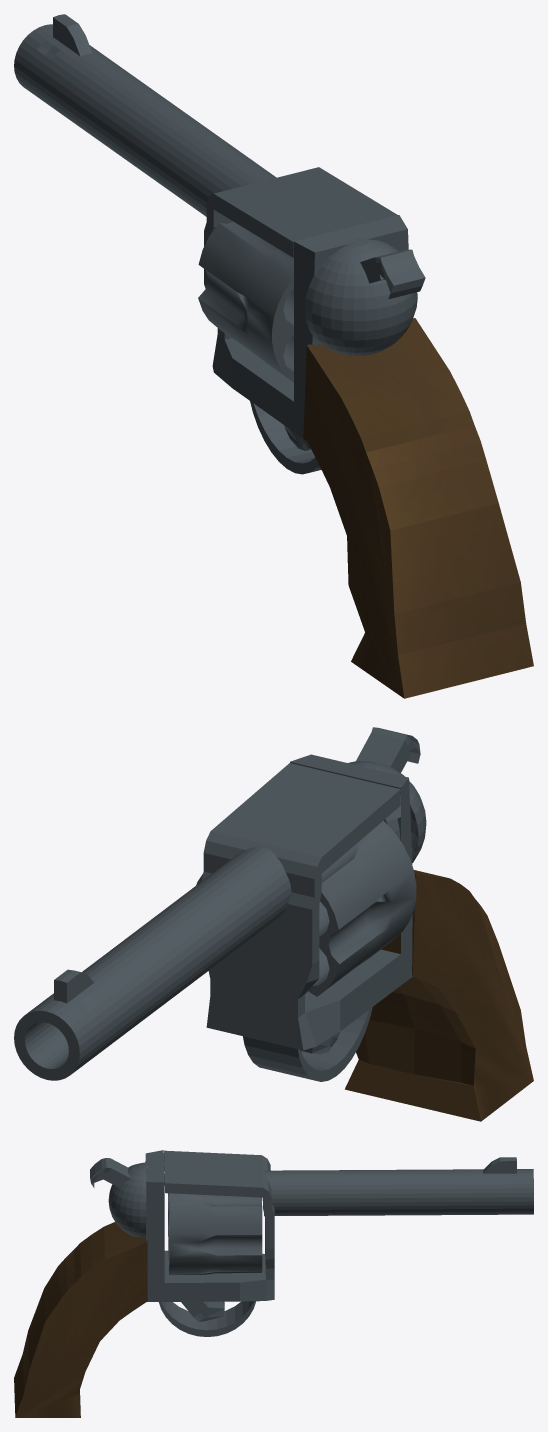
Rendered from Revolver.obj.
3 renders of one model, top to bottom at view 1: azimuth 30°, elevation 25°; view 2: azimuth 150°, elevation 25°; view 3: azimuth 270°, elevation 25°, orthographic. The views are drawn at different scales.
Visible parts, largest first — view 1: Cube, Cylinder.001, Cube.002, Mesh.004, Sphere, Cube.001, Circle.001; view 2: Cube.002, Cube, Cylinder.001, Mesh.004, Circle.001, Cube.001, Sphere; view 3: Cube, Cylinder.001, Cube.002, Mesh.004, Sphere, Circle.001, Cube.001, Cube.003.
Part boxes in pixels (<box>): Cube: <box>303,318,533,698</box>; Cylinder.001: <box>14,14,276,216</box>; Cube.002: <box>204,167,408,439</box>; Mesh.004: <box>198,221,293,382</box>; Sphere: <box>305,239,417,355</box>; Cube.001: <box>360,249,425,299</box>; Circle.001: <box>250,401,321,474</box>; Cube.002: <box>201,754,412,1050</box>; Cube: <box>344,870,533,1121</box>; Cylinder.001: <box>14,846,291,1080</box>; Mesh.004: <box>196,821,416,996</box>; Circle.001: <box>243,1007,372,1081</box>; Cube.001: <box>356,727,420,772</box>; Sphere: <box>348,760,426,862</box>; Cube: <box>14,1222,147,1417</box>; Cylinder.001: <box>264,1157,533,1215</box>; Cube.002: <box>145,1150,274,1301</box>; Mesh.004: <box>168,1193,262,1275</box>; Sphere: <box>108,1162,148,1236</box>; Circle.001: <box>159,1301,255,1336</box>; Cube.001: <box>90,1158,130,1187</box>; Cube.003: <box>181,1301,224,1321</box>.
Size of the model in its own units: 6.89 by 17.16 by 34.18.
Materials: 2 (1 with a texture image).
